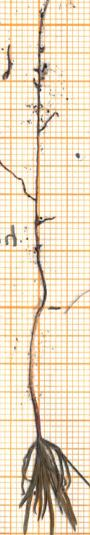flower: (3, 433, 90, 535)
root: (0, 0, 63, 308)
stem: (24, 306, 51, 437)
